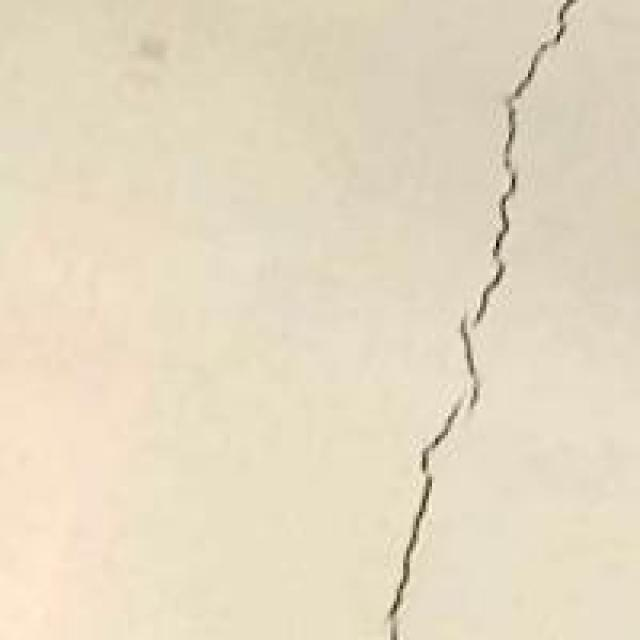crack: (346, 0, 636, 637)
